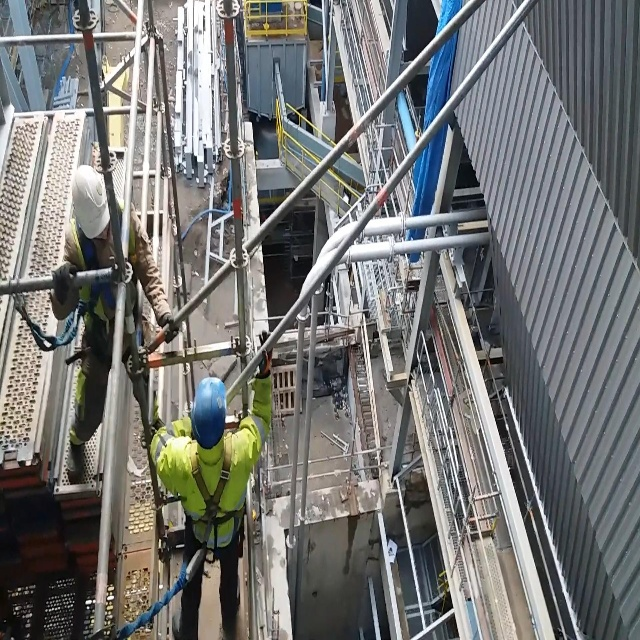Arnes_seguridad: (69, 213, 141, 364), (177, 433, 249, 568)
